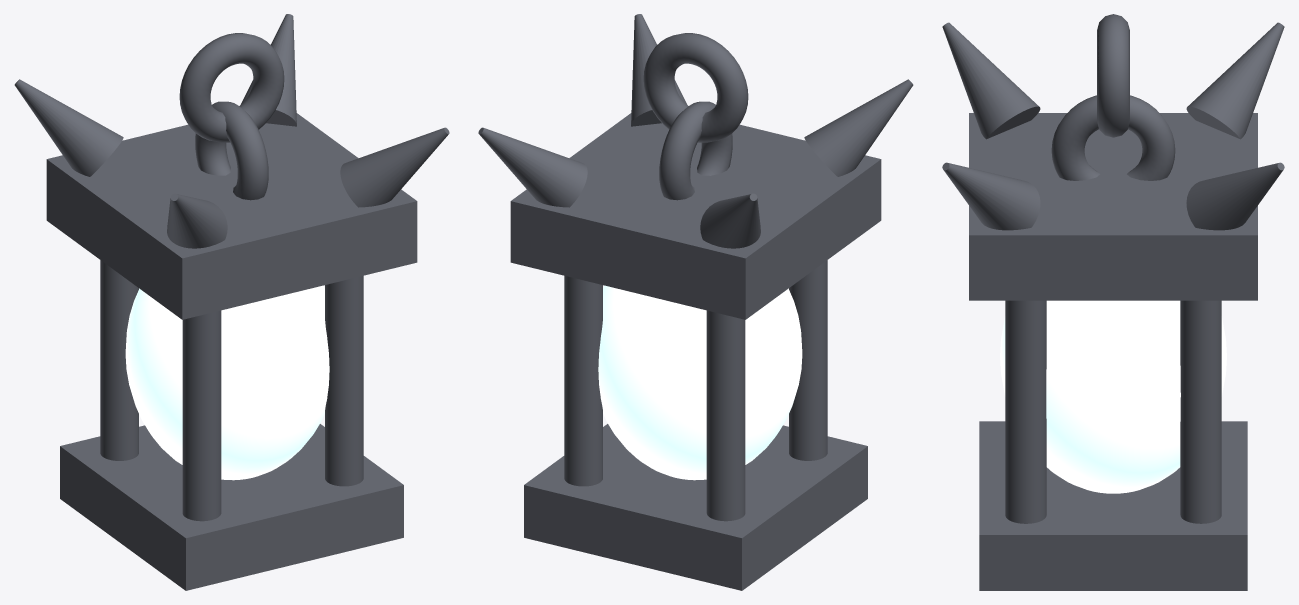
Rendered from thresh_lantern.glb.
3 views of the same model, side by side, from view 1: azimuth 30°, elevation 25°; view 2: azimuth 150°, elevation 25°; view 3: azimuth 270°, elevation 25° (orthographic). The views are drawn at different scales.
Visible parts, largest first — view 1: thresh_lantern; view 2: thresh_lantern; view 3: thresh_lantern.
Part boxes in pixels (x1=…): thresh_lantern: x1=14, y1=14, x2=449, y2=590; thresh_lantern: x1=478, y1=14, x2=913, y2=590; thresh_lantern: x1=942, y1=14, x2=1284, y2=590.
Size of the model in its own units: 0.1657 by 0.275 by 0.1657.
